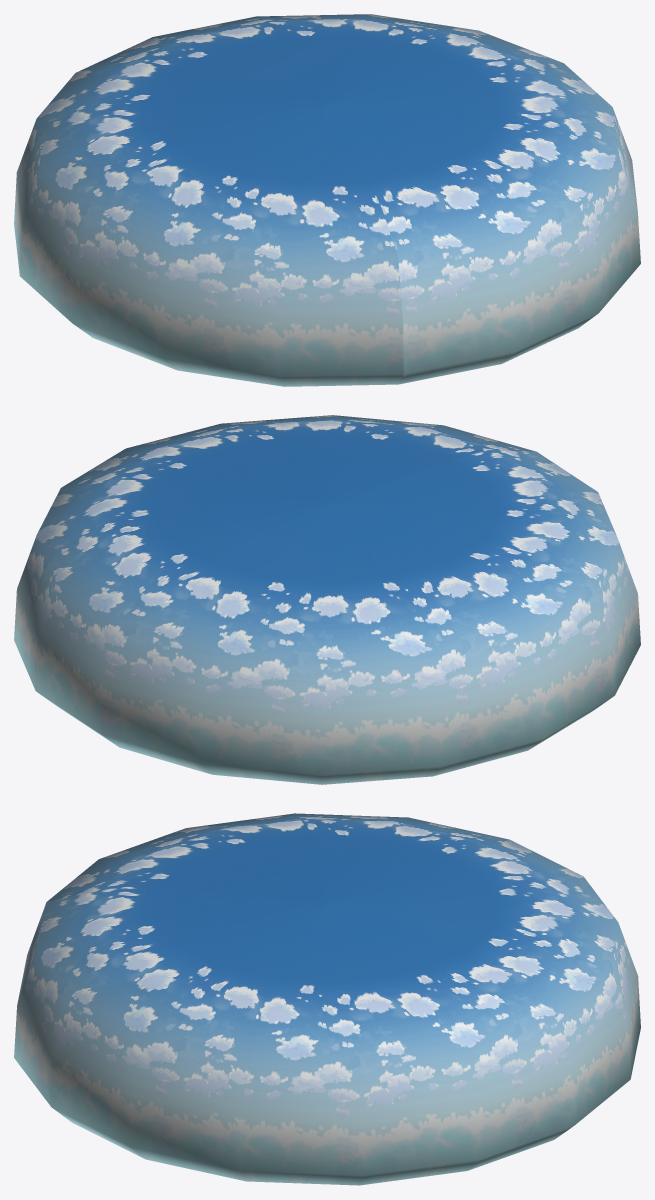
Rendered from stage.glb.
The picture shows the model from 3 angles, top to bottom: view 1: azimuth 30°, elevation 25°; view 2: azimuth 150°, elevation 25°; view 3: azimuth 270°, elevation 25°; orthographic projection.
Parts seen in each view (by area): view 1: KORE_export_Hero City_mesh; view 2: KORE_export_Hero City_mesh; view 3: KORE_export_Hero City_mesh.
Part boxes in pixels (box(x1,y1,x2,y2)): KORE_export_Hero City_mesh: box(14, 14, 640, 386); KORE_export_Hero City_mesh: box(14, 415, 640, 784); KORE_export_Hero City_mesh: box(14, 813, 640, 1185).
Bounding box in the file's own units: 44.29 × 13.46 × 44.29.
Materials: 26 (26 with a texture image).
